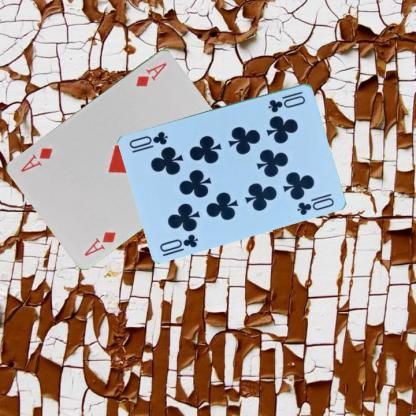10c: (265, 88, 307, 114), (157, 231, 200, 253)
Ad: (82, 228, 118, 257), (133, 59, 168, 88)
